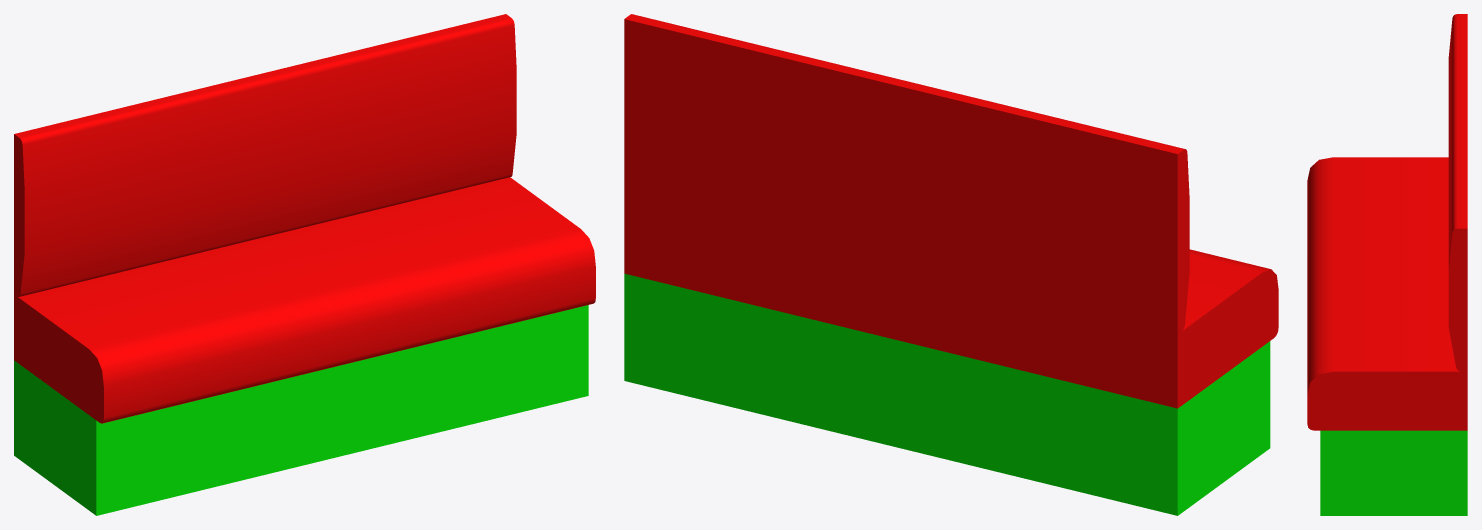
Rendered from SM_Seating_BaySeat_Straight.FBX.
The picture shows the model from 3 angles, left to right: view 1: azimuth 30°, elevation 25°; view 2: azimuth 150°, elevation 25°; view 3: azimuth 270°, elevation 25°; orthographic projection. The views are drawn at different scales.
Visible parts, largest first — view 1: SM_Seating_BaySeat_Straight; view 2: SM_Seating_BaySeat_Straight; view 3: SM_Seating_BaySeat_Straight.
Part boxes in pixels (box(x1,y1,x2,y2)): SM_Seating_BaySeat_Straight: box(14, 14, 595, 515); SM_Seating_BaySeat_Straight: box(624, 14, 1278, 515); SM_Seating_BaySeat_Straight: box(1307, 14, 1467, 515).
Bounding box in the file's own units: 160 × 99.94 × 50.54.
